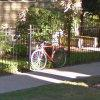Bicycle: (28, 36, 68, 73)
